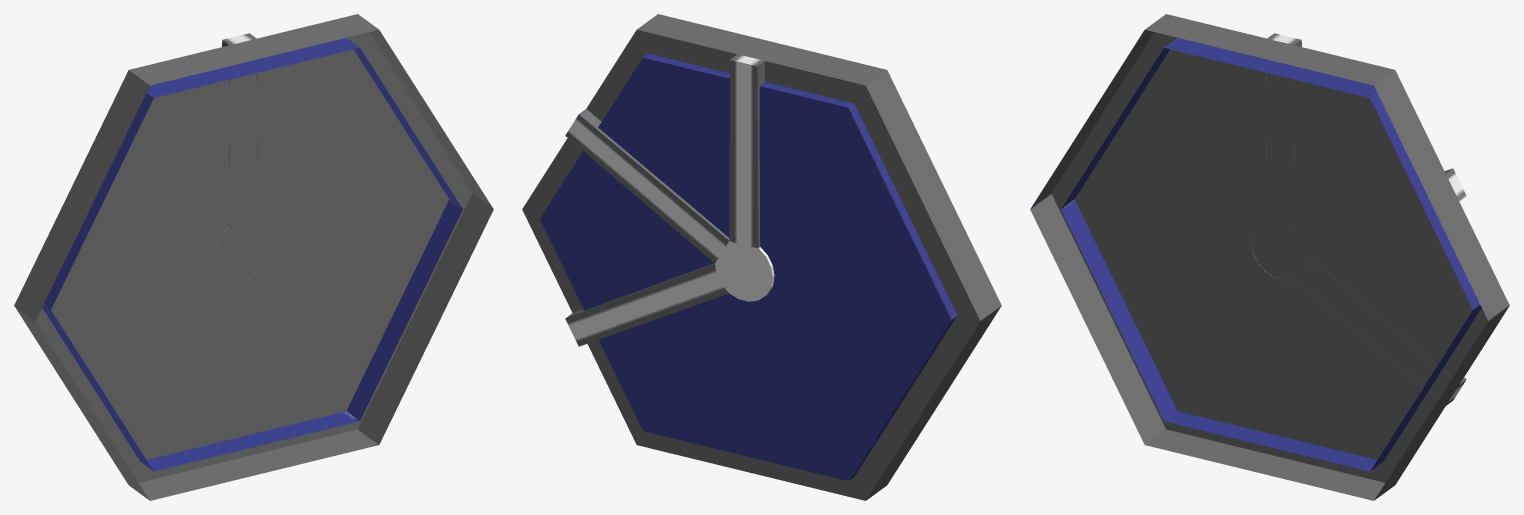
Rendered from Hexagons Middle 3 Trails Together.fbx.
The picture shows the model from 3 angles, left to right: view 1: azimuth 30°, elevation 25°; view 2: azimuth 150°, elevation 25°; view 3: azimuth 330°, elevation 25°; orthographic projection.
Parts seen in each view (by area): view 1: Cylinder.046; view 2: Cylinder.046; view 3: Cylinder.046.
Boxes of the visible parts, box(x1,y1,x2,y2) form: Cylinder.046: box(14, 14, 493, 500); Cylinder.046: box(522, 14, 1001, 500); Cylinder.046: box(1030, 14, 1509, 500).
Size of the model in its own units: 14 by 12.12 by 1.53.
Materials: 1 (1 with a texture image).
